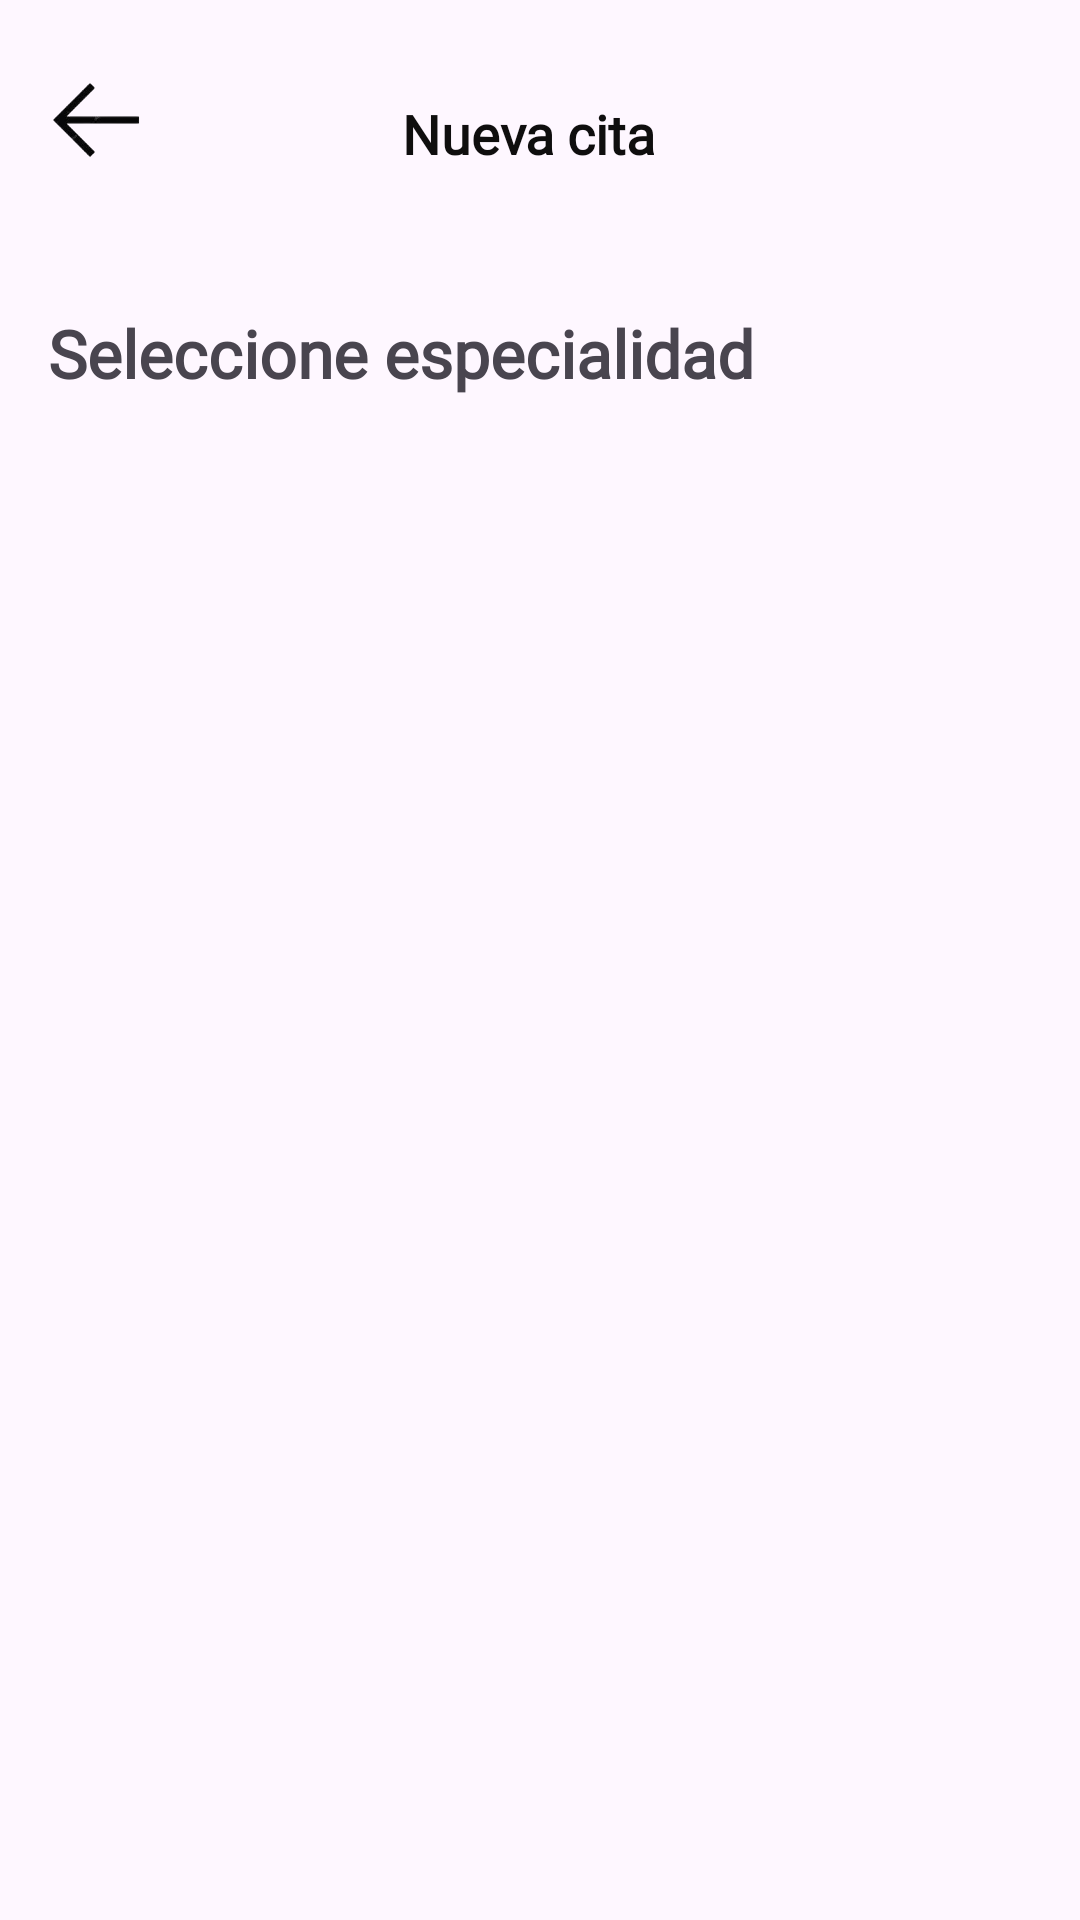

Screen size 1080*1920. Icon name, then its center in pixels as [x,y]:
Botón para regresar a la pantalla principal: [96,120]
